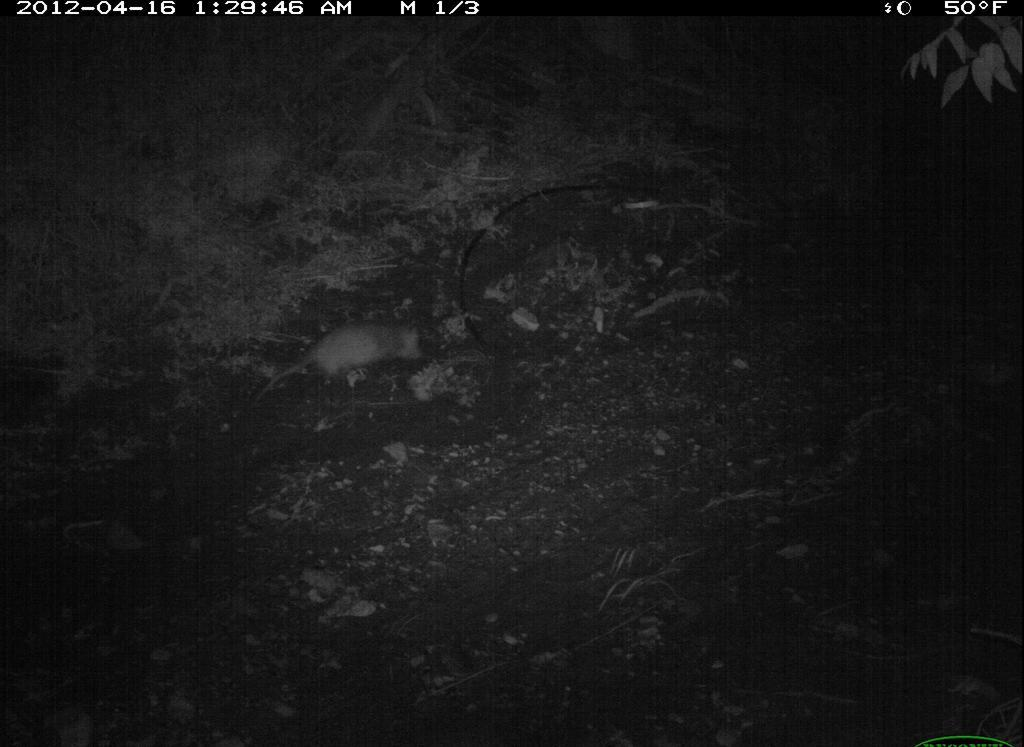opossum: (251, 321, 456, 424)
